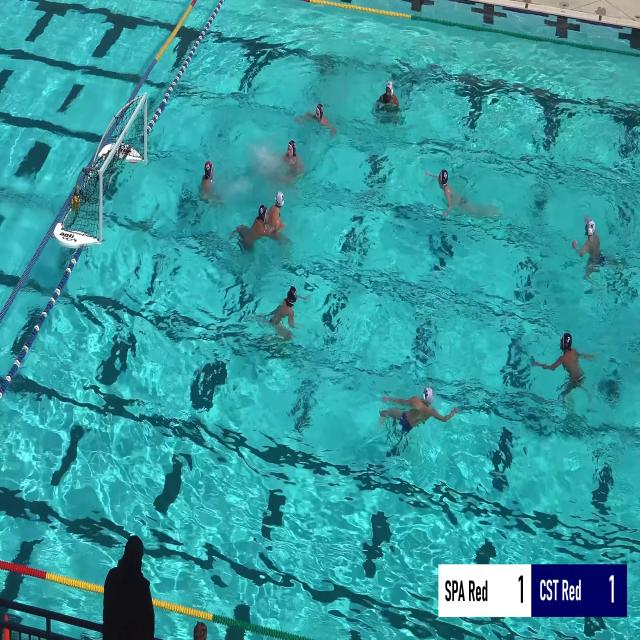ball: (71, 195, 80, 210)
